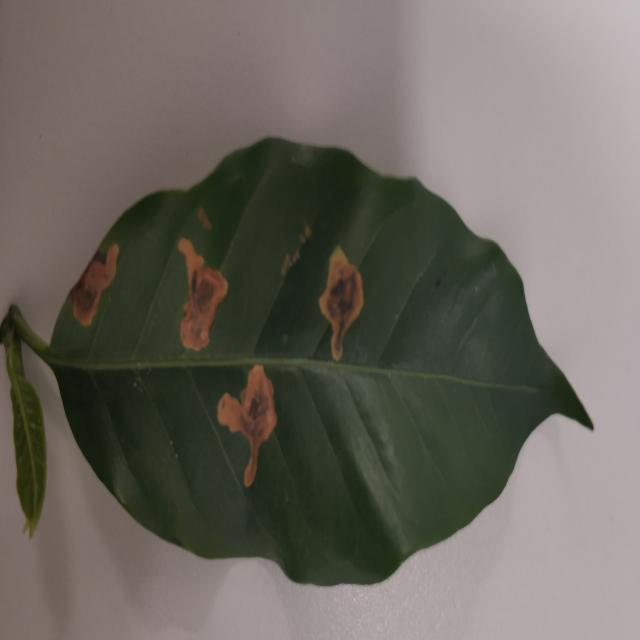Plaga-Minador: (21, 138, 594, 590)
